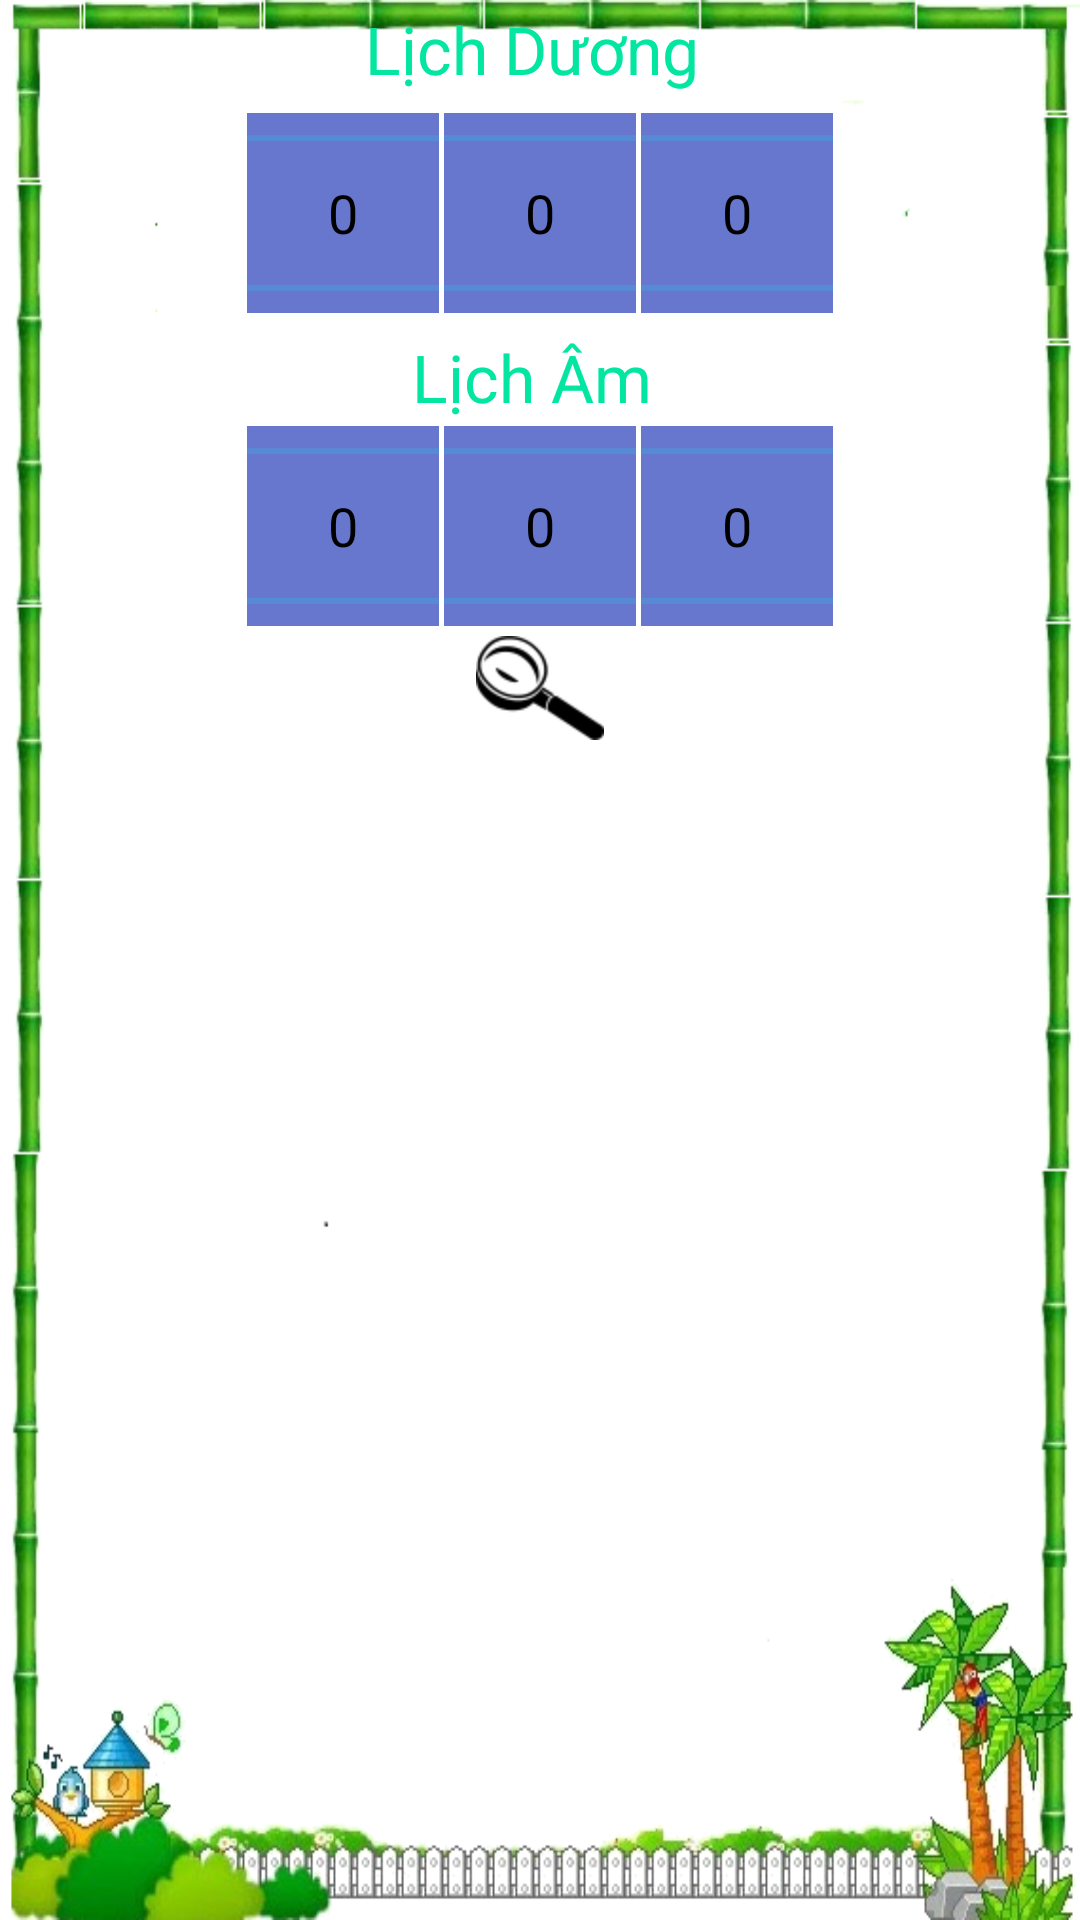

Named icons in this screenshot (1080×1920) and their centers, (x=x, y=y):
search: (x=540, y=688)
